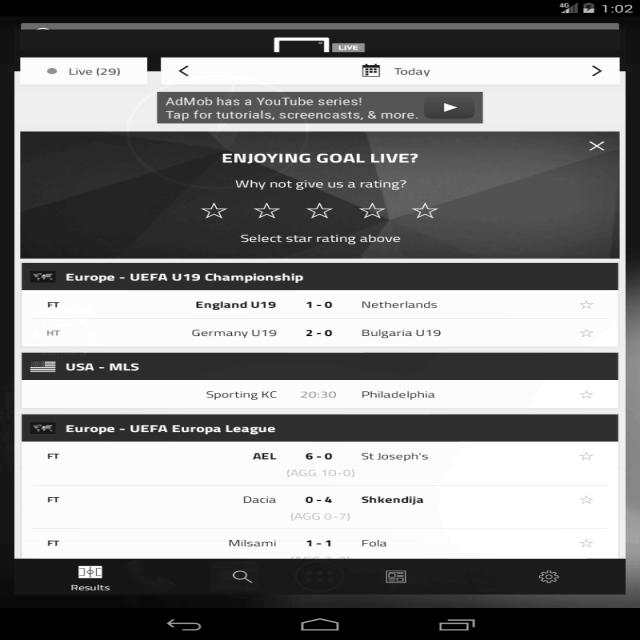ImageButton: (531, 567, 569, 587), (224, 568, 258, 586), (582, 139, 614, 155), (172, 62, 197, 79), (584, 61, 606, 79)
ImageView: (70, 561, 111, 581), (380, 567, 414, 589), (352, 59, 382, 79), (31, 419, 64, 436), (27, 358, 58, 376)
RatingBar: (194, 199, 449, 226)
TextView: (165, 97, 411, 120), (59, 272, 323, 286), (218, 149, 420, 167), (234, 232, 406, 244), (355, 296, 442, 312), (356, 492, 429, 506), (206, 391, 280, 399)
